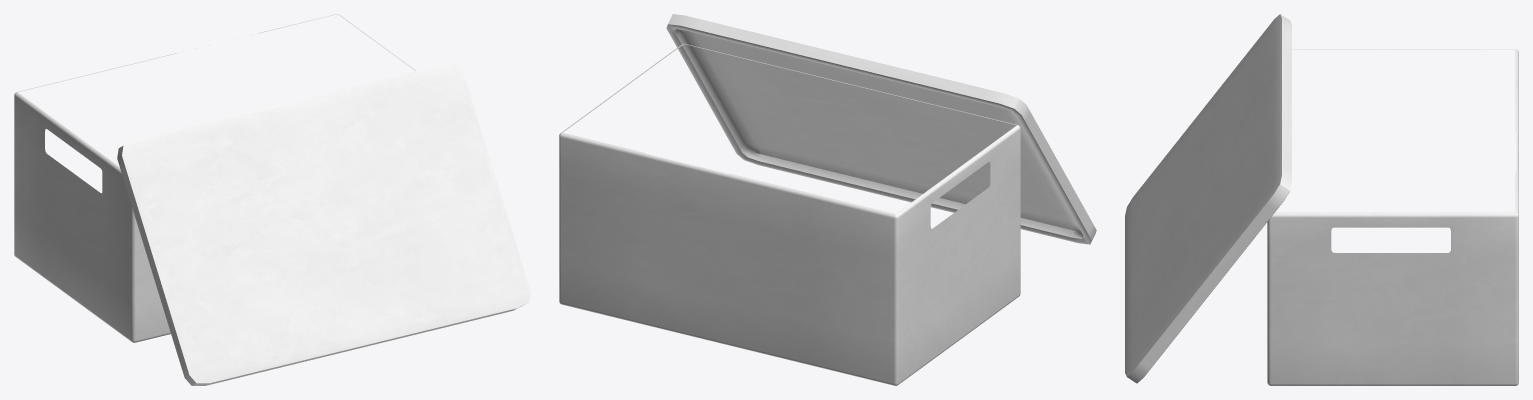
The model's file is caja.glb.
The picture shows the model from 3 angles, left to right: view 1: azimuth 30°, elevation 25°; view 2: azimuth 150°, elevation 25°; view 3: azimuth 270°, elevation 25°; orthographic projection. The views are drawn at different scales.
Visible parts, largest first — view 1: tapa, caja; view 2: caja, tapa; view 3: caja, tapa.
Boxes of the visible parts, x1,y1,x2,y2 form: tapa: [117, 64, 530, 385]; caja: [14, 14, 415, 342]; caja: [559, 43, 1020, 385]; tapa: [666, 14, 1096, 244]; caja: [1267, 49, 1518, 385]; tapa: [1125, 14, 1291, 383].
Bounding box in the file's own units: 3.28 × 1.82 × 3.13.
Materials: 1 (1 with a texture image).
